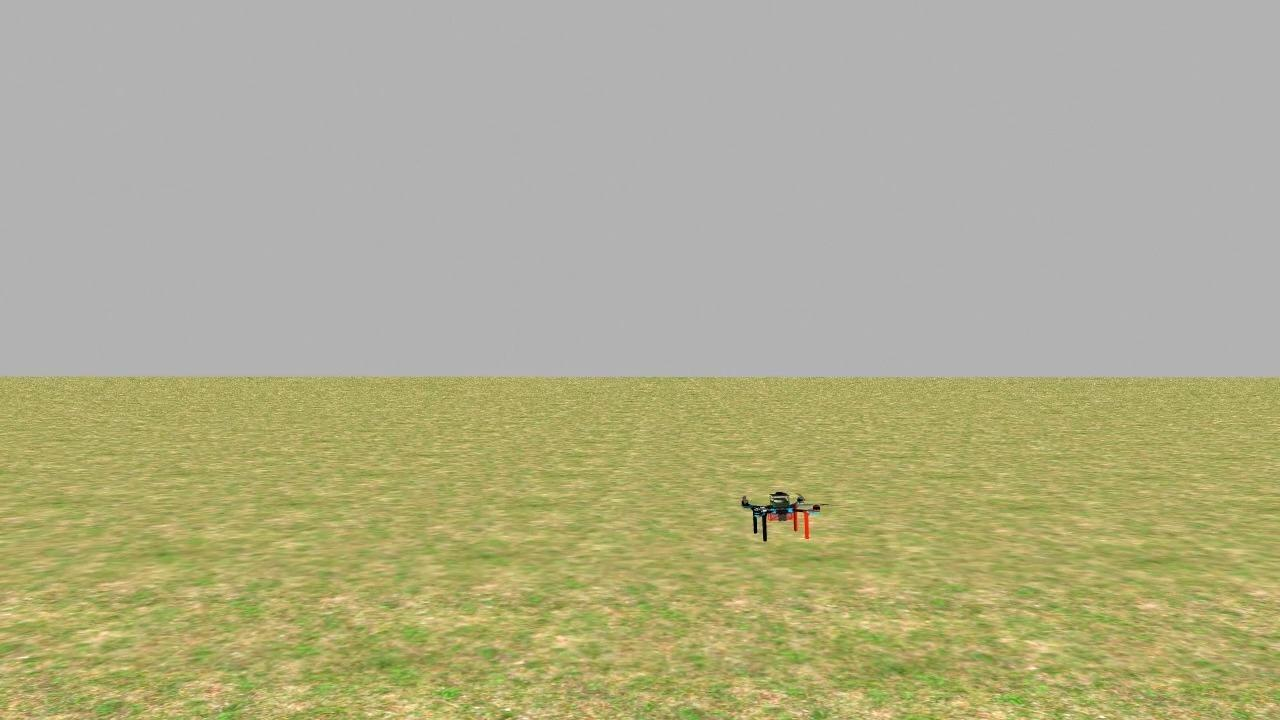UAV: (731, 474, 832, 549)
